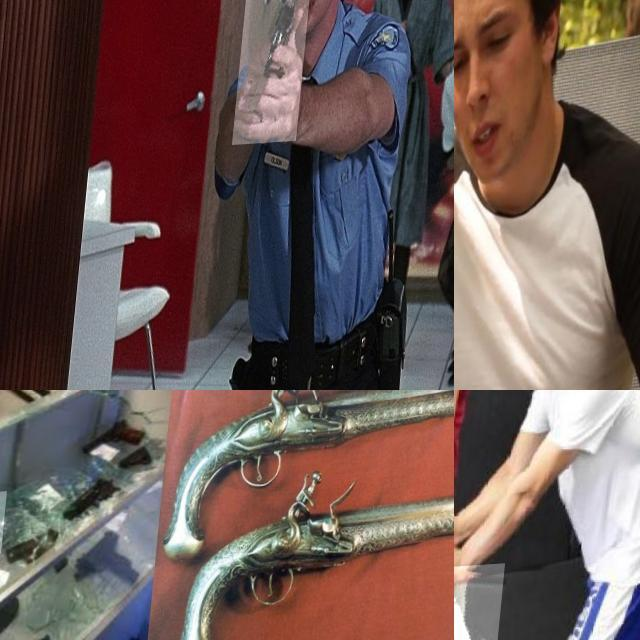-: (454, 231, 496, 390), (454, 567, 511, 640)
gun-knife-thesis - v11 Yolov5 augmented: (177, 445, 454, 640), (164, 390, 454, 564), (238, 0, 315, 149), (60, 466, 136, 530), (6, 517, 74, 583), (78, 402, 148, 462), (0, 493, 43, 559), (0, 570, 41, 628)
